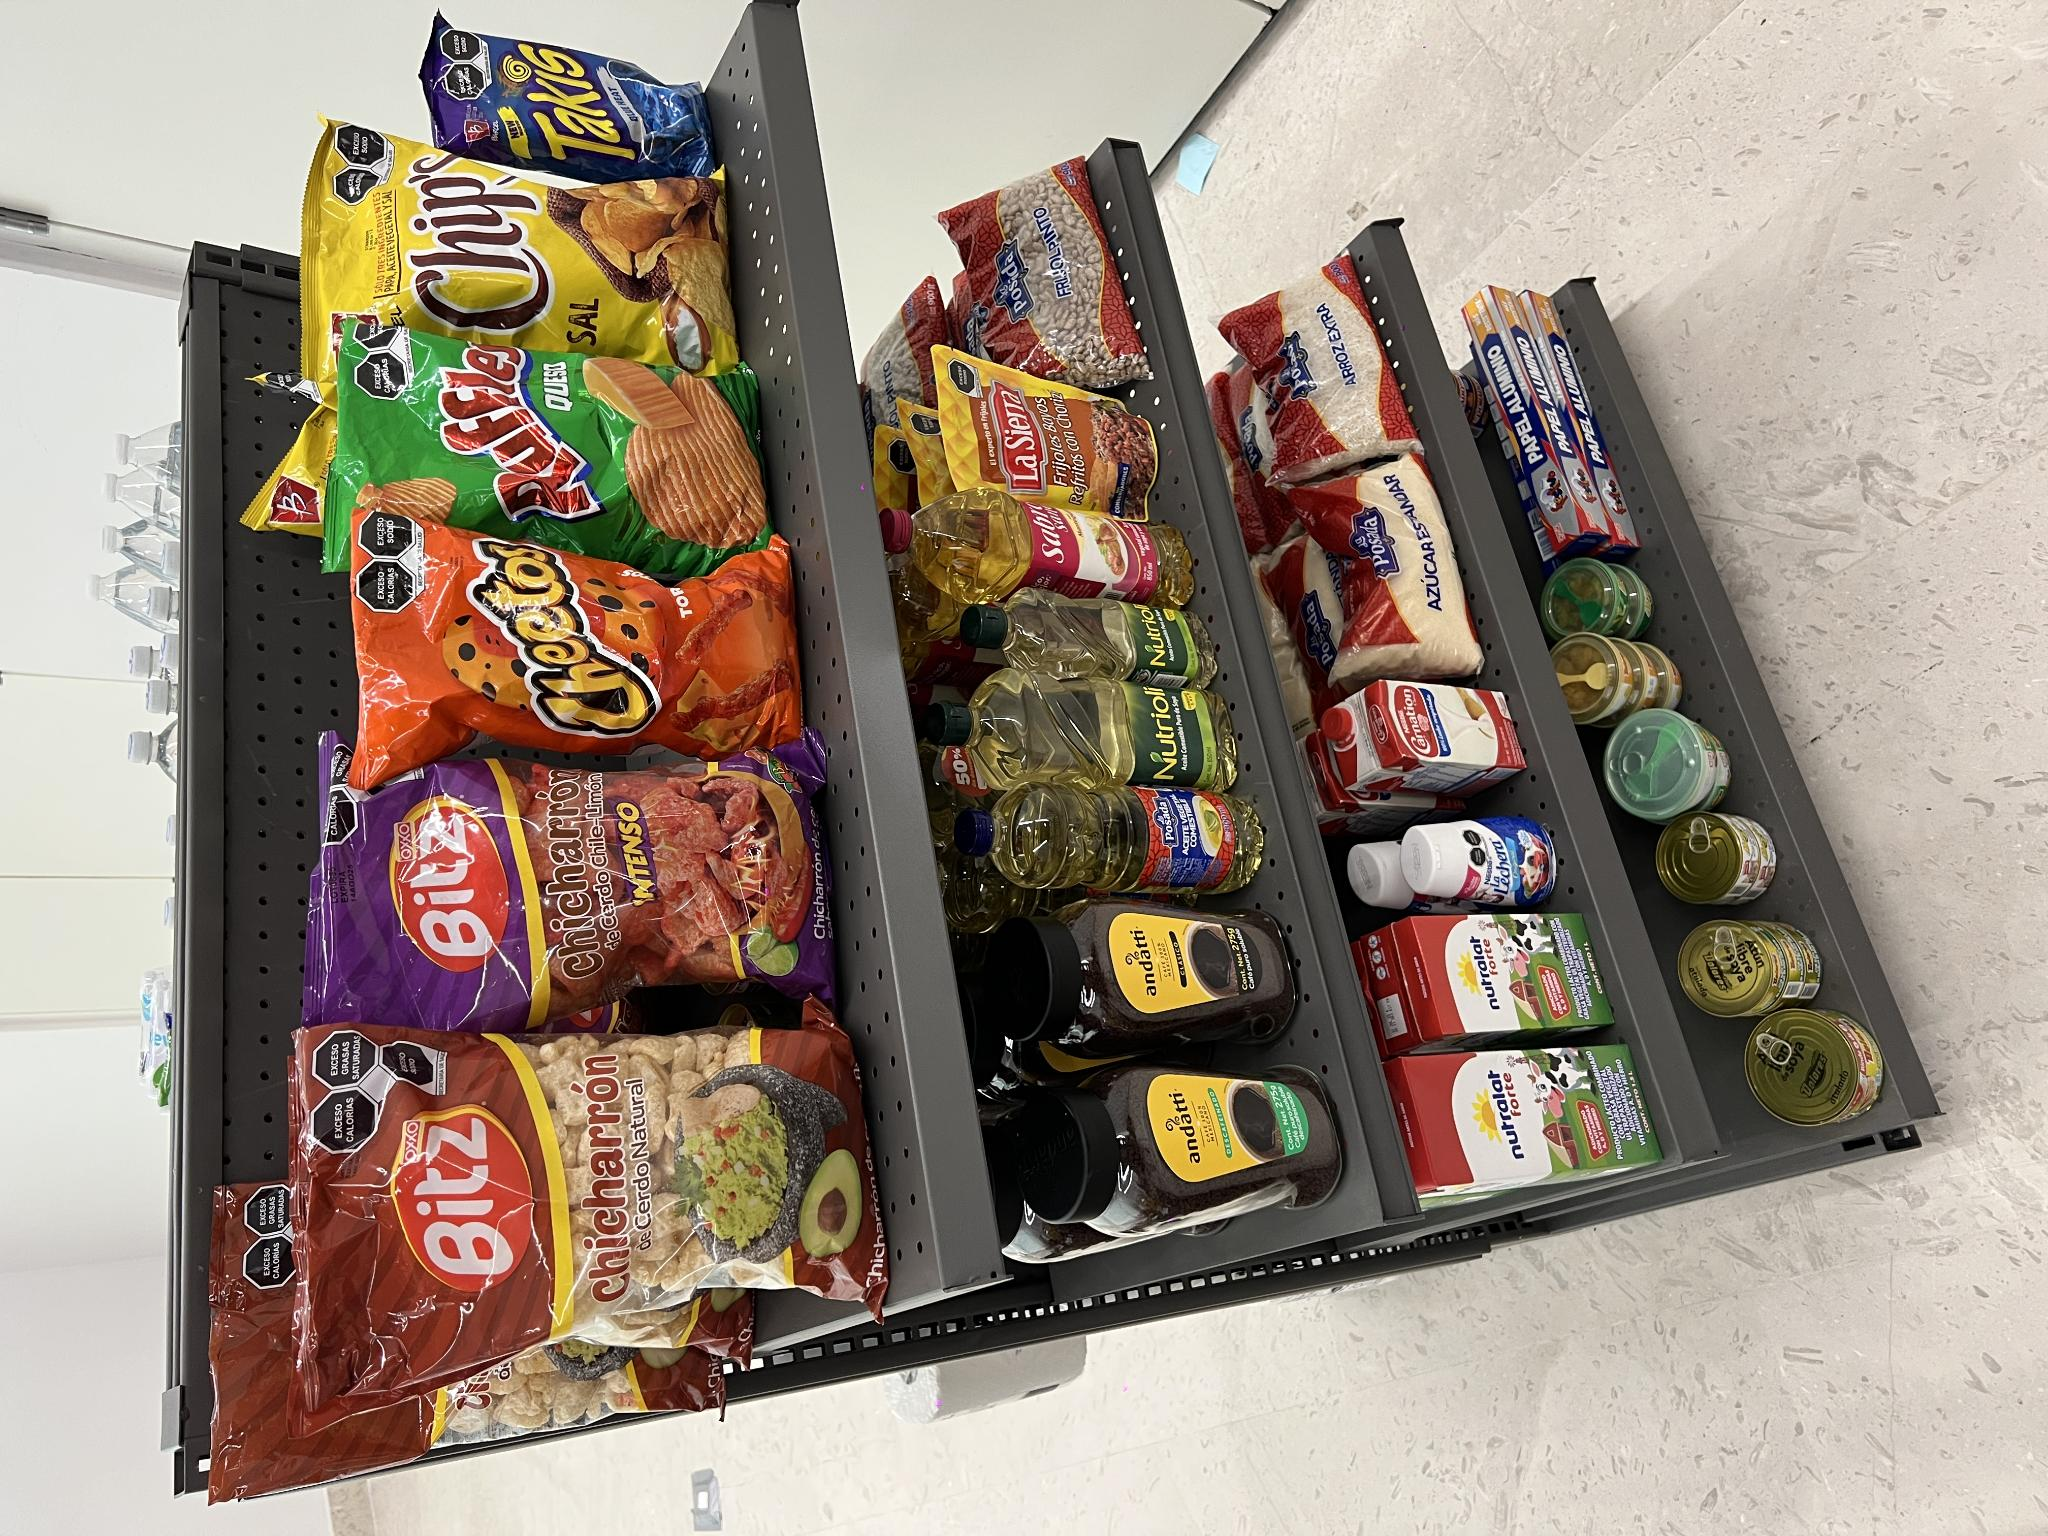aceite_nutrioli_400ml: (855, 954, 950, 1225)
aceite_nutrioli_850ml: (734, 926, 874, 1241)
aceite_posada: (647, 957, 758, 1278)
aceite_saborsano: (939, 886, 1043, 1200)
andatti: (298, 1054, 471, 1359), (490, 1028, 639, 1300)
arroz_laposada: (1055, 1215, 1293, 1431)
azucar_laposada: (864, 1273, 1084, 1483)
carnation: (751, 1368, 856, 1536)
cheetos: (751, 349, 1035, 803)
chicharron_bitz_intenso: (508, 305, 800, 837)
chicharron_bitz_natural: (126, 297, 511, 895)
chips_sal: (1171, 310, 1422, 742)
frijol_laposada: (1151, 936, 1377, 1157)
frijol_lasierra: (1026, 936, 1188, 1163)
lalechera: (632, 1404, 737, 1536)
leche_nutralatforte: (487, 1363, 622, 1536), (340, 1389, 493, 1536)
papel_aluminio: (1116, 1478, 1253, 1536)
ruffles: (966, 319, 1206, 776)
takis: (1350, 410, 1517, 713)
